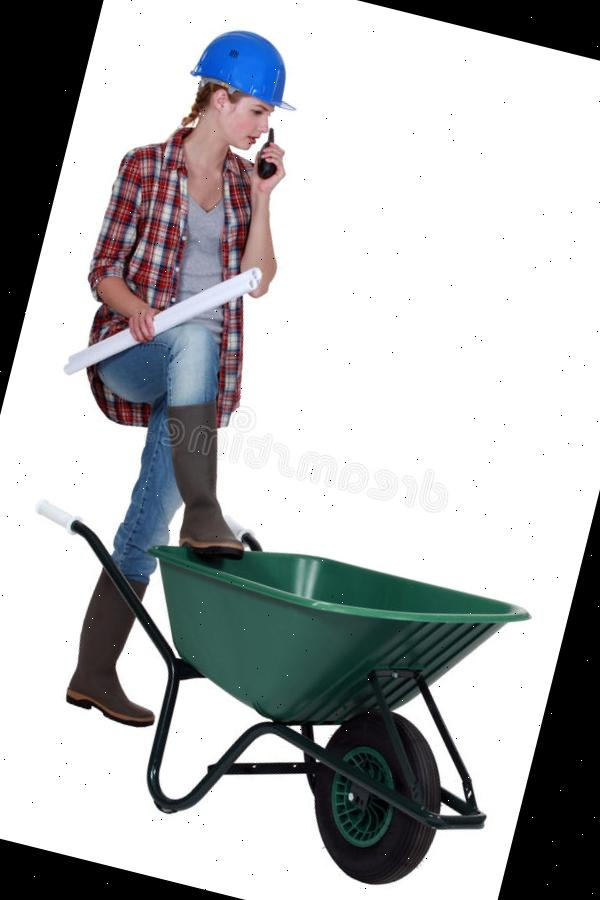helmet: (180, 17, 313, 122)
no_wear: (94, 137, 279, 361)
